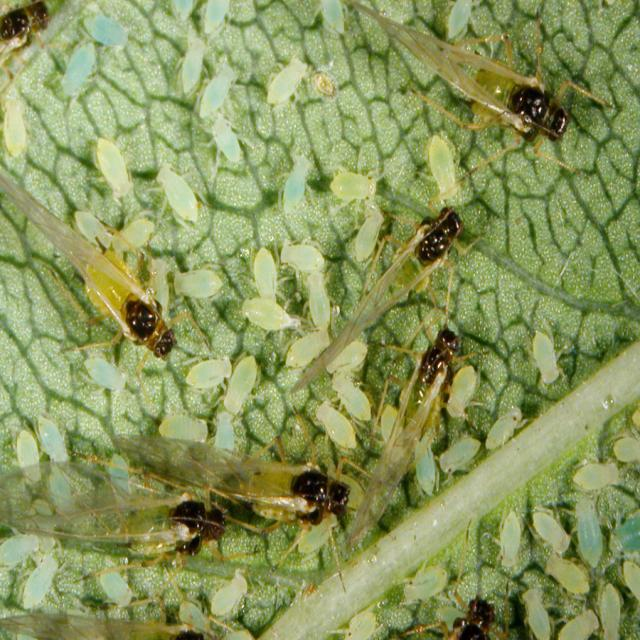aphid: (141, 154, 225, 239), (405, 126, 470, 209), (236, 280, 299, 349), (310, 394, 365, 468), (88, 554, 150, 617), (519, 316, 568, 394), (216, 345, 261, 415), (323, 161, 384, 212), (200, 563, 252, 622), (490, 495, 528, 575), (273, 152, 314, 223), (530, 494, 574, 559), (32, 406, 73, 471)
